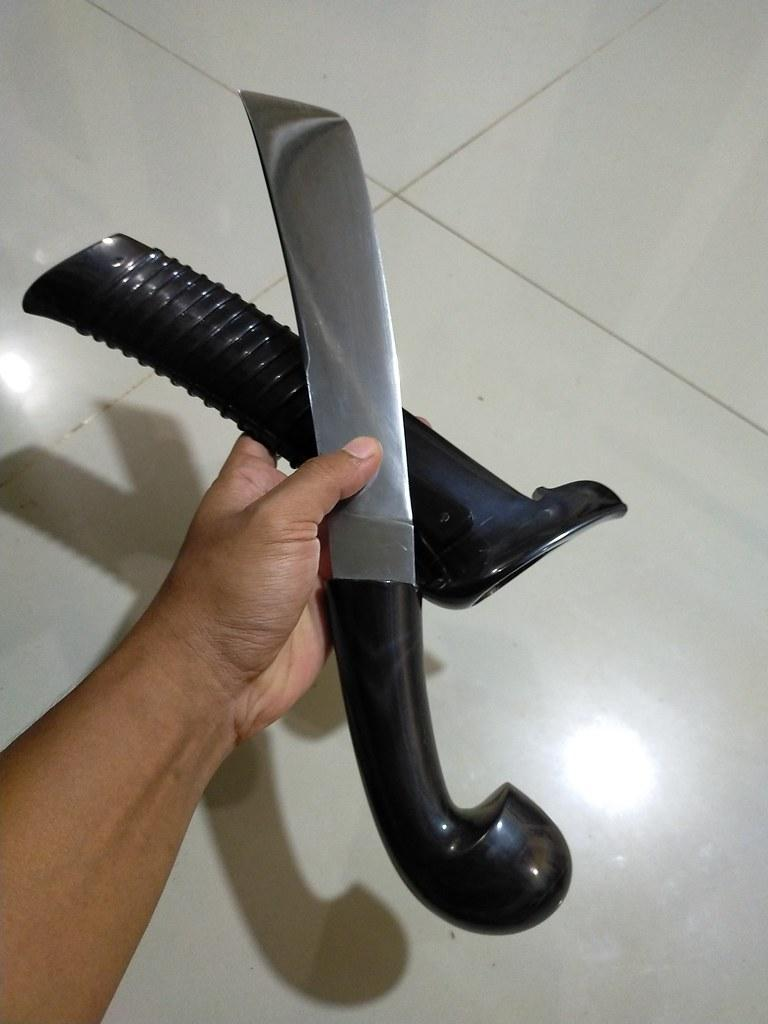facao: (241, 92, 570, 934)
